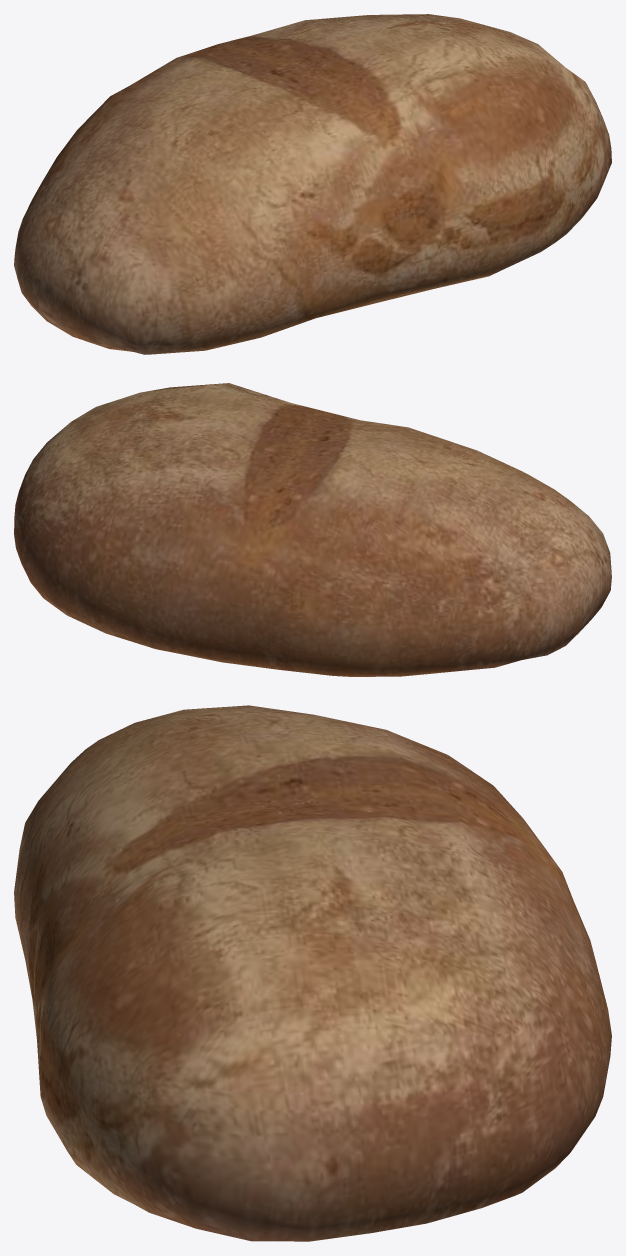
The model's file is loaf.glb.
3 renders of one model, top to bottom at view 1: azimuth 30°, elevation 25°; view 2: azimuth 150°, elevation 25°; view 3: azimuth 270°, elevation 25°, orthographic. The views are drawn at different scales.
Parts seen in each view (by area): view 1: loaf; view 2: loaf; view 3: loaf.
Part boxes in pixels (x1,y1,x2,y2): loaf: [14, 14, 611, 354]; loaf: [14, 383, 611, 676]; loaf: [14, 705, 611, 1241].
Bounding box in the file's own units: 0.3 × 0.0965 × 0.1853.
1 material, 1 textured.
